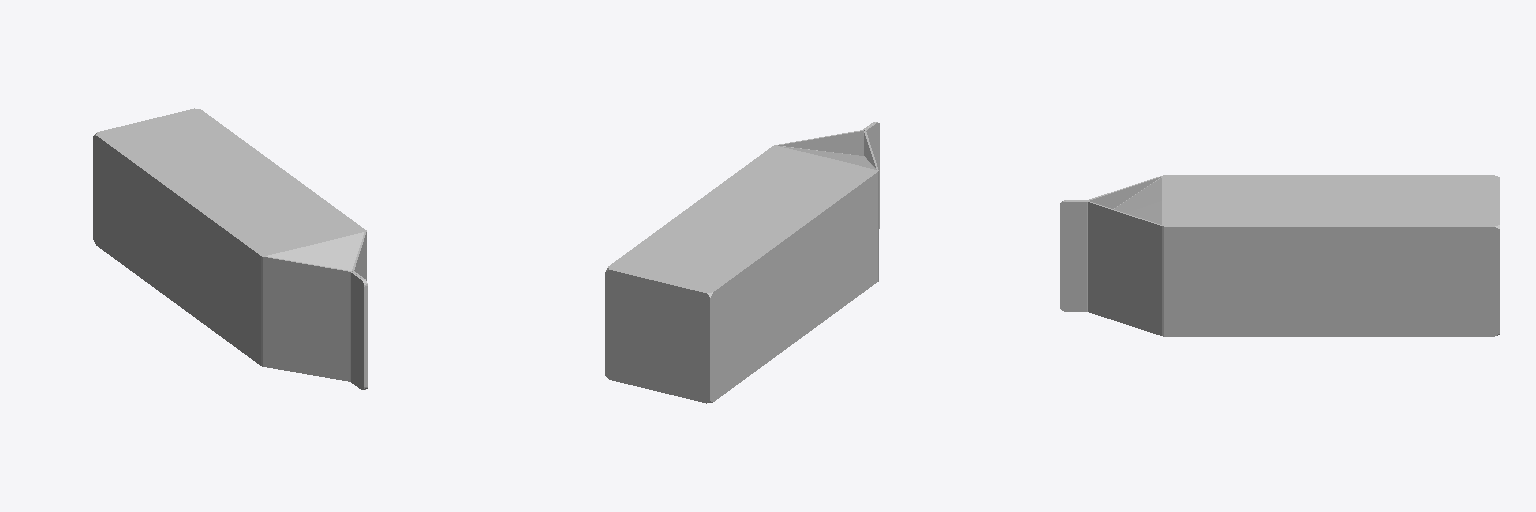
Rendered from milk.obj.
The picture shows the model from 3 angles: view 1: azimuth 30°, elevation 25°; view 2: azimuth 150°, elevation 25°; view 3: azimuth 270°, elevation 25°; orthographic projection.
Parts seen in each view (by area): view 1: Milk; view 2: Milk; view 3: Milk.
Boxes of the visible parts, x1,y1,x2,y2 form: Milk: [93, 108, 367, 389]; Milk: [605, 122, 879, 403]; Milk: [1060, 175, 1499, 336].
Bounding box in the file's own units: 0.0441 × 0.0441 × 0.16.